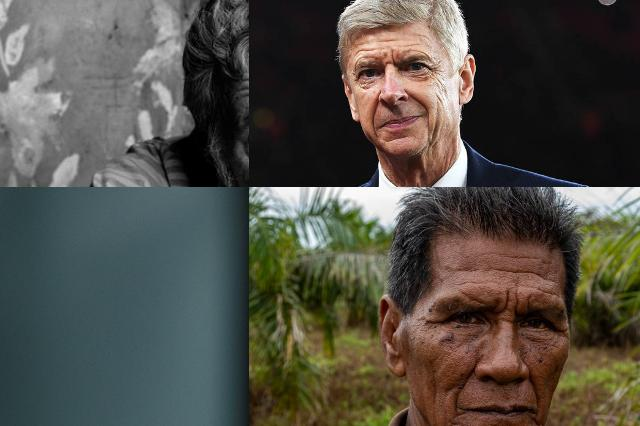chin: (386, 134, 410, 144), (445, 417, 461, 426)
crows_feet: (421, 312, 441, 332), (554, 322, 570, 338), (431, 66, 444, 82)
forehead: (492, 260, 540, 278), (494, 251, 540, 265), (451, 274, 482, 290), (532, 284, 564, 298), (352, 44, 378, 58), (403, 42, 427, 55), (242, 74, 249, 103)
frown_line: (500, 288, 518, 314), (384, 50, 396, 68)
gummy_smile: (454, 364, 476, 398), (408, 88, 428, 110), (369, 96, 383, 124), (528, 376, 544, 400)
masseter: (434, 90, 448, 108)
sad_smile: (422, 114, 432, 130), (370, 123, 380, 139)
